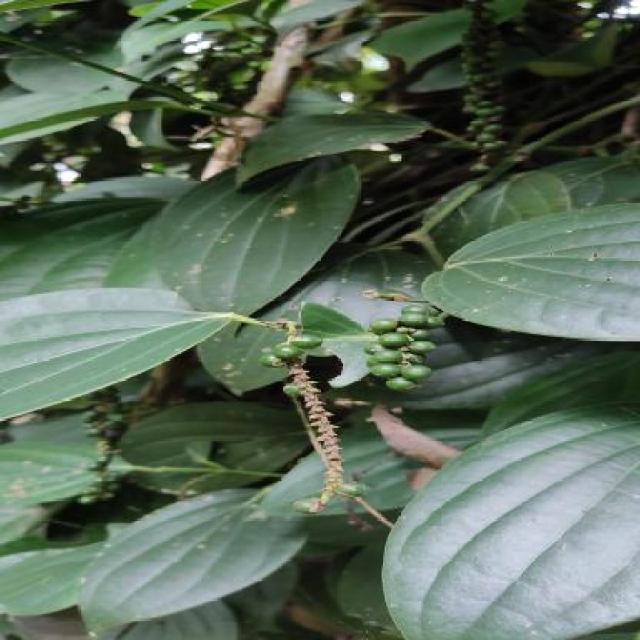UNRIPE: (458, 6, 511, 169), (365, 305, 440, 388), (258, 332, 320, 368)
